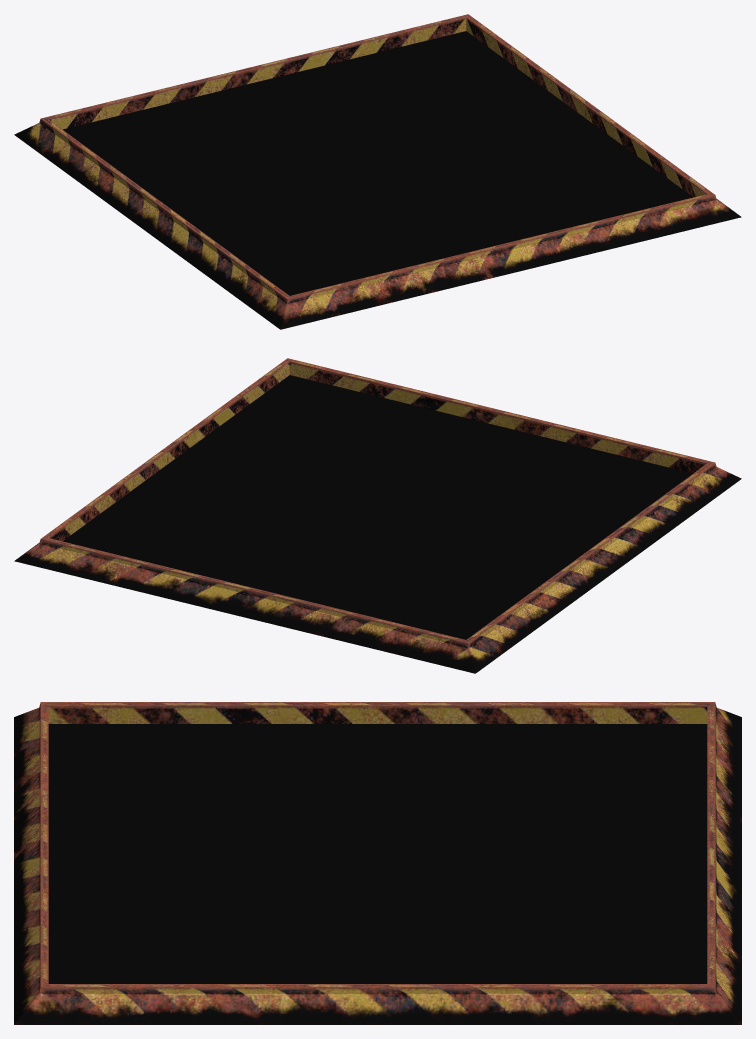
Rendered from tile-block.glb.
The picture shows the model from 3 angles, top to bottom: view 1: azimuth 30°, elevation 25°; view 2: azimuth 150°, elevation 25°; view 3: azimuth 270°, elevation 25°; orthographic projection. The views are drawn at different scales.
Parts seen in each view (by area): view 1: tile; view 2: tile; view 3: tile.
Boxes of the visible parts, x1,y1,x2,y2 form: tile: (14, 14, 741, 329); tile: (14, 358, 741, 673); tile: (14, 702, 741, 1024).
Bounding box in the file's own units: 2 × 0.0798 × 2.
Materials: 3 (2 with a texture image).
